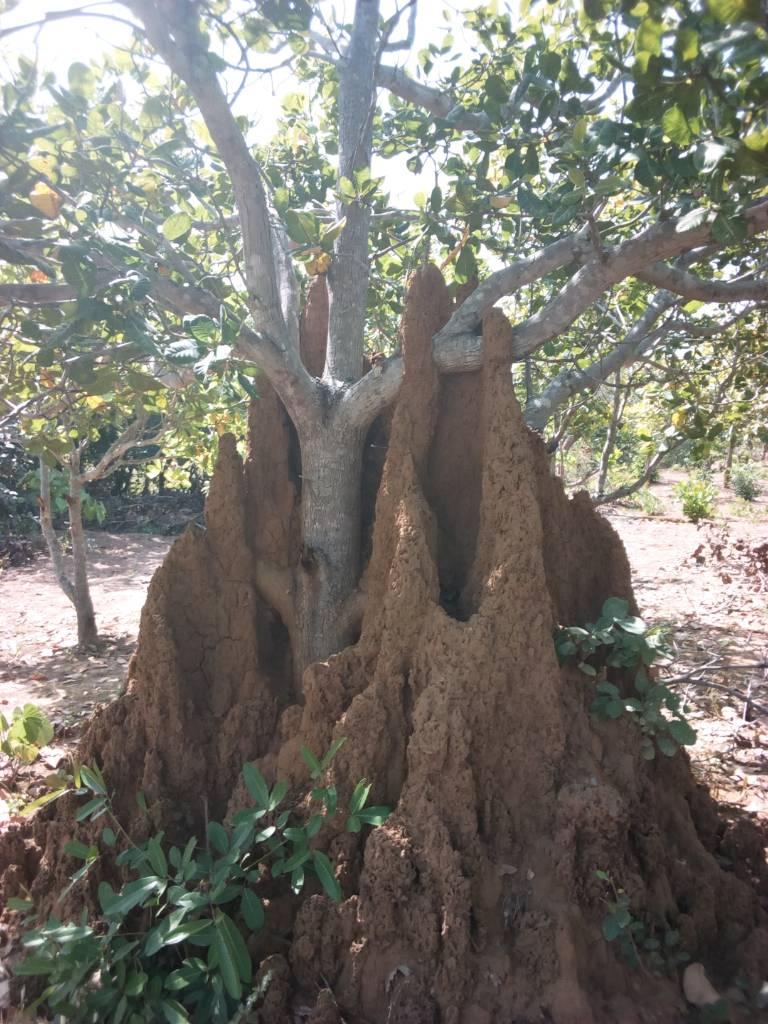Virose: (107, 255, 732, 985)
